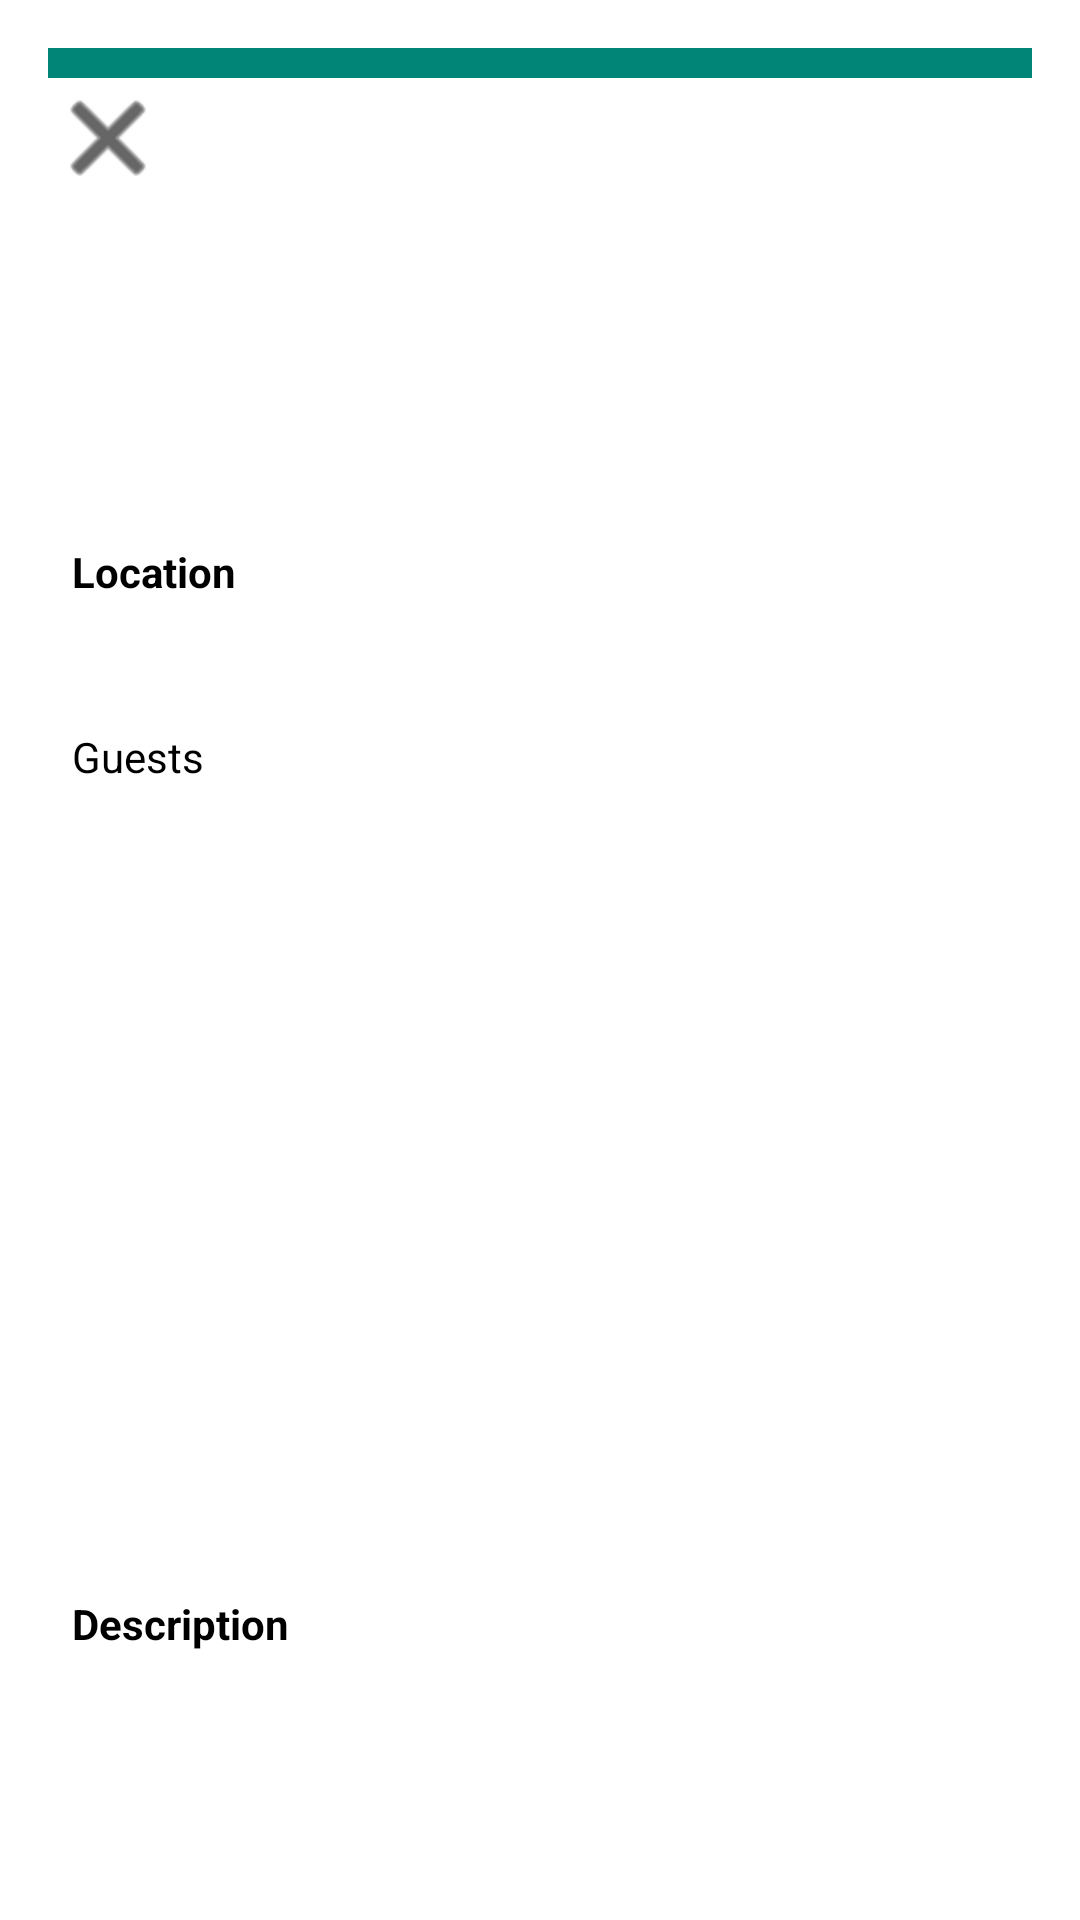

Screen size 1080x1920. Icon name, then its center in pixels as (x,y):
close clear cancel: (108,138)
